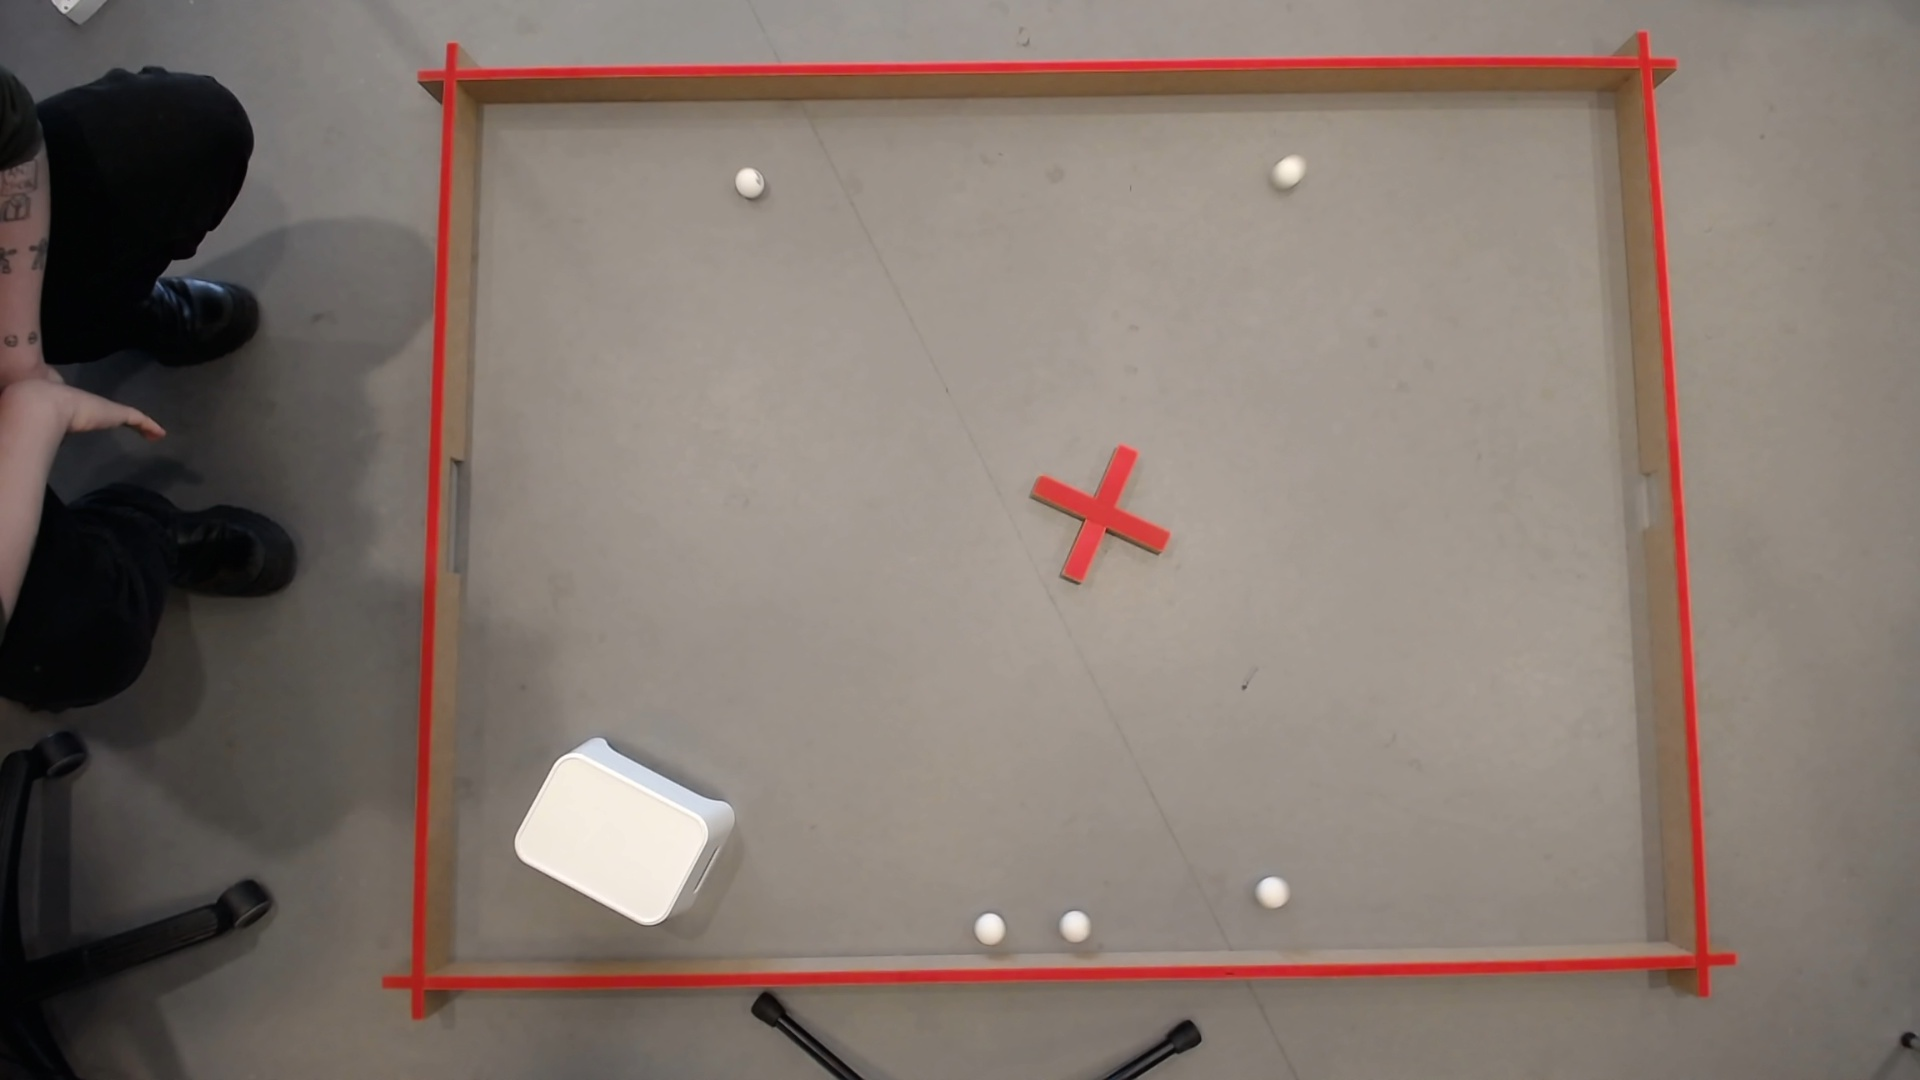balls: (505, 721, 732, 935), (969, 907, 1007, 947), (1056, 906, 1093, 943), (1271, 149, 1307, 186), (1259, 876, 1284, 905)
car: (732, 164, 761, 196)
